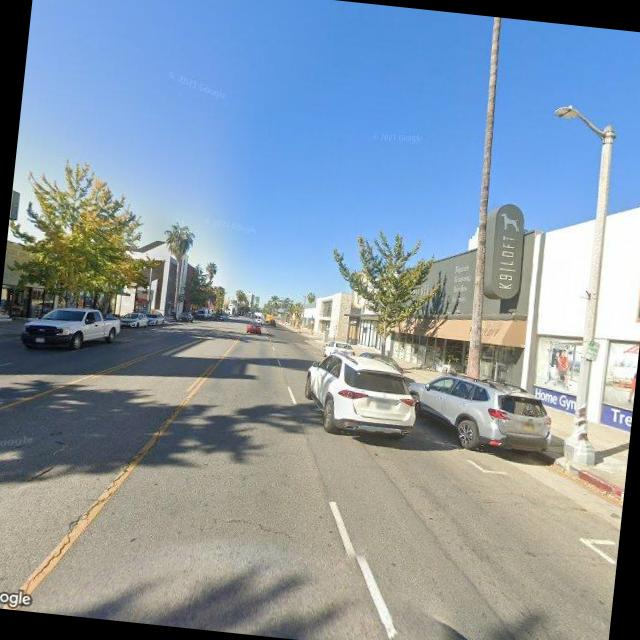crack: (24, 376, 187, 606), (208, 510, 297, 540)
